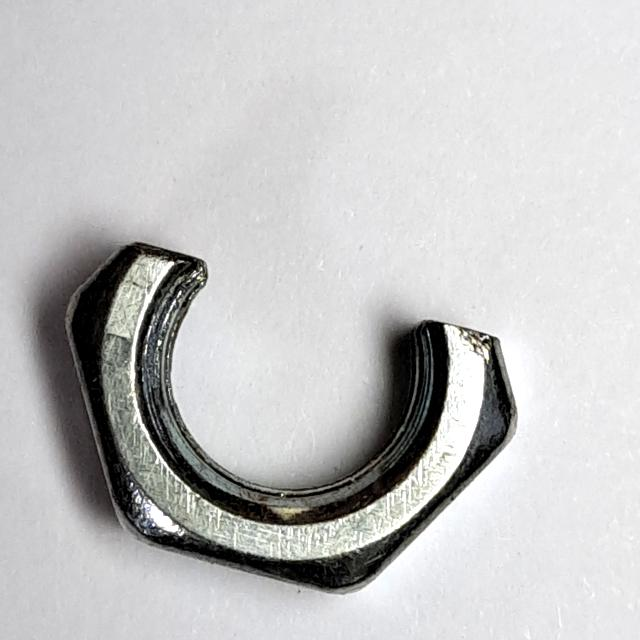Fracture: (57, 224, 530, 610)
